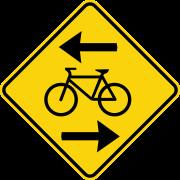Cycle Crossing: (22, 17, 156, 162)
